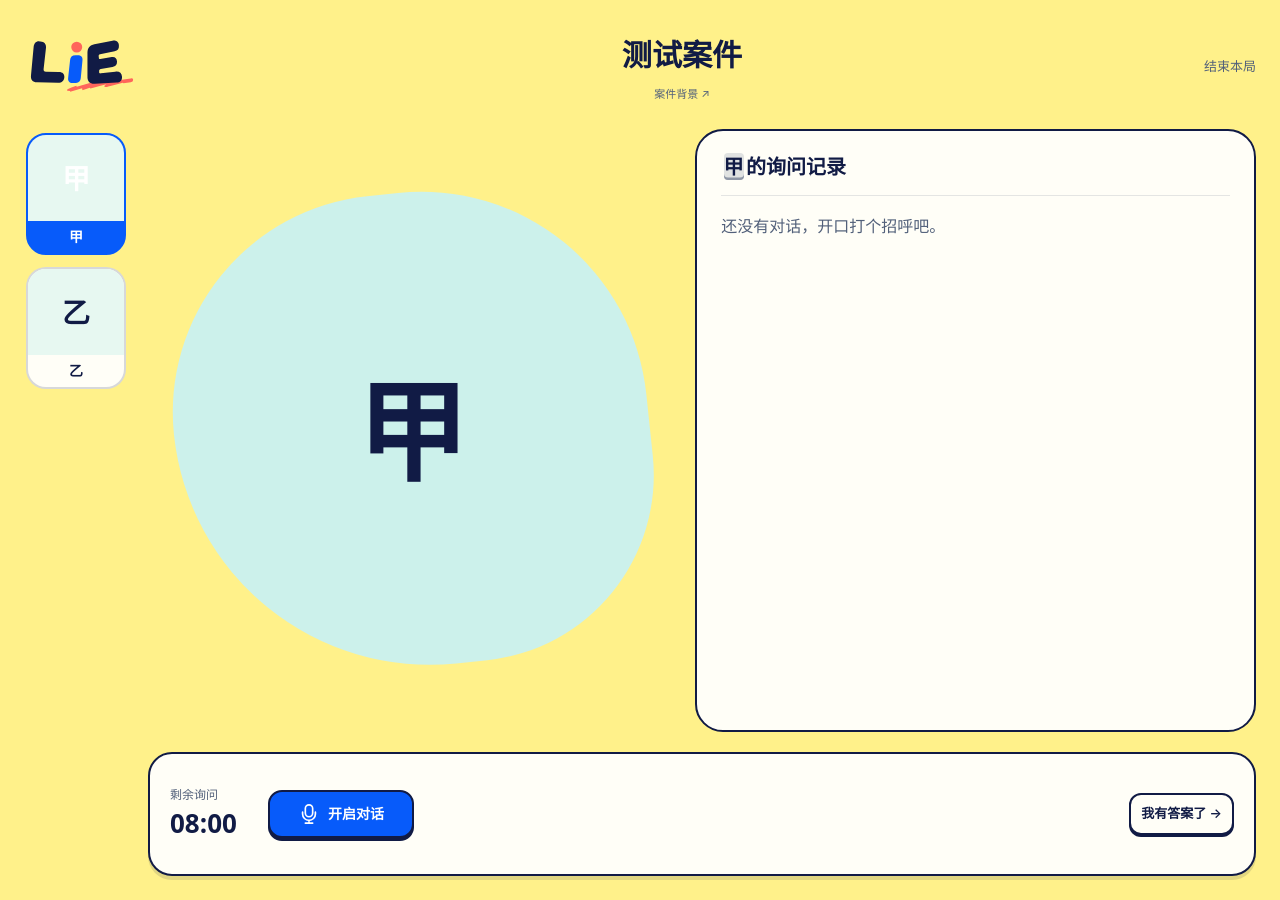
game screens › explains when voice is not enabled in this environment before capture starts
Click the button "开启对话": point(341, 814) [268, 790, 414, 838]
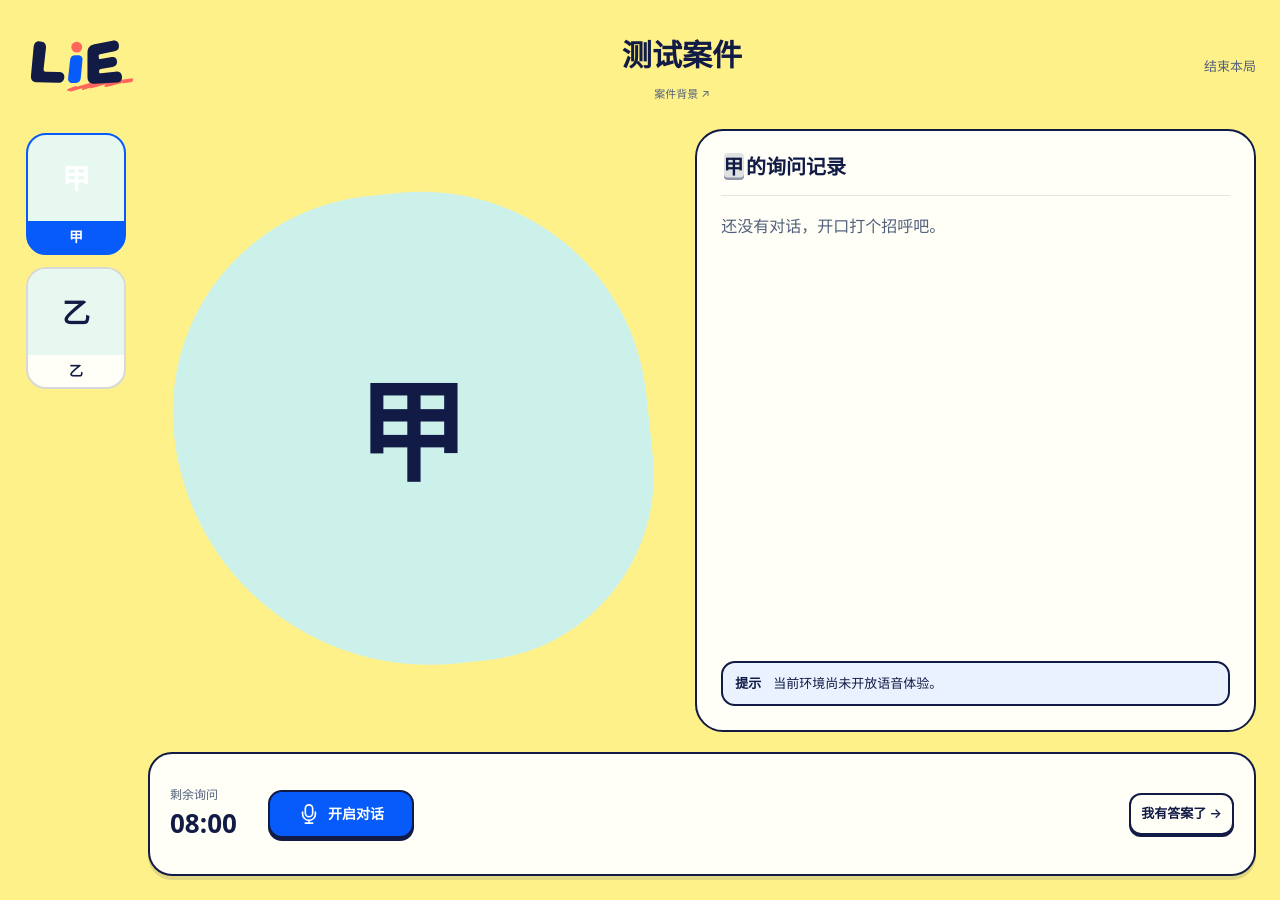
Now the text "当前环境尚未开放语音体验" is shown, box [773, 674, 942, 692]
